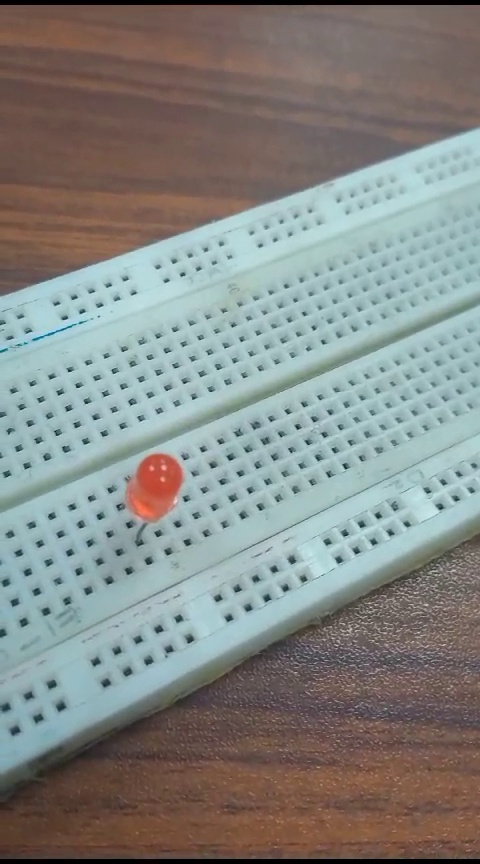LED: (124, 451, 187, 573)
